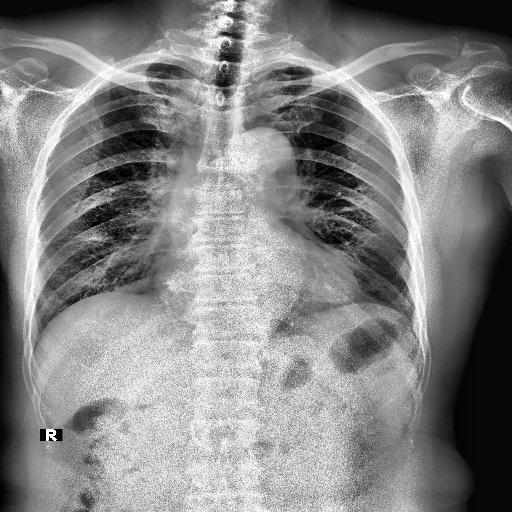0- Aortic enlargement: (235, 127, 295, 203), (231, 128, 297, 192), (234, 130, 298, 182)
